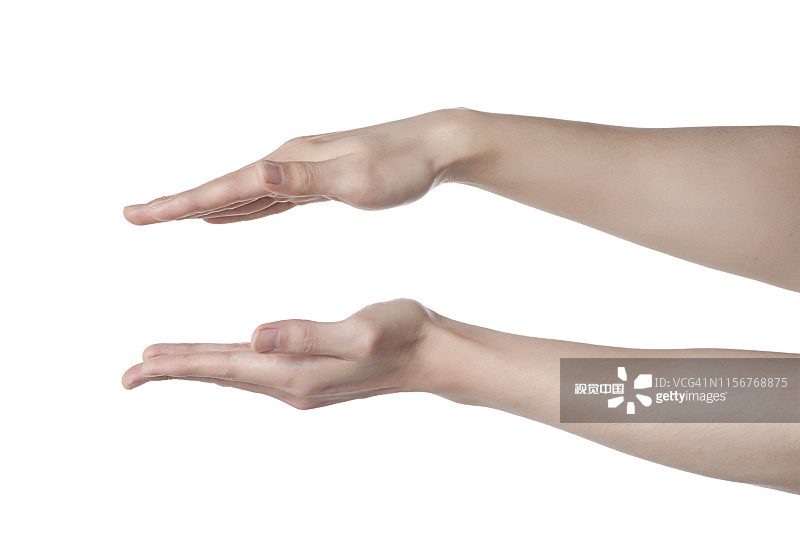no-phone: (104, 84, 513, 236), (85, 283, 480, 427)
